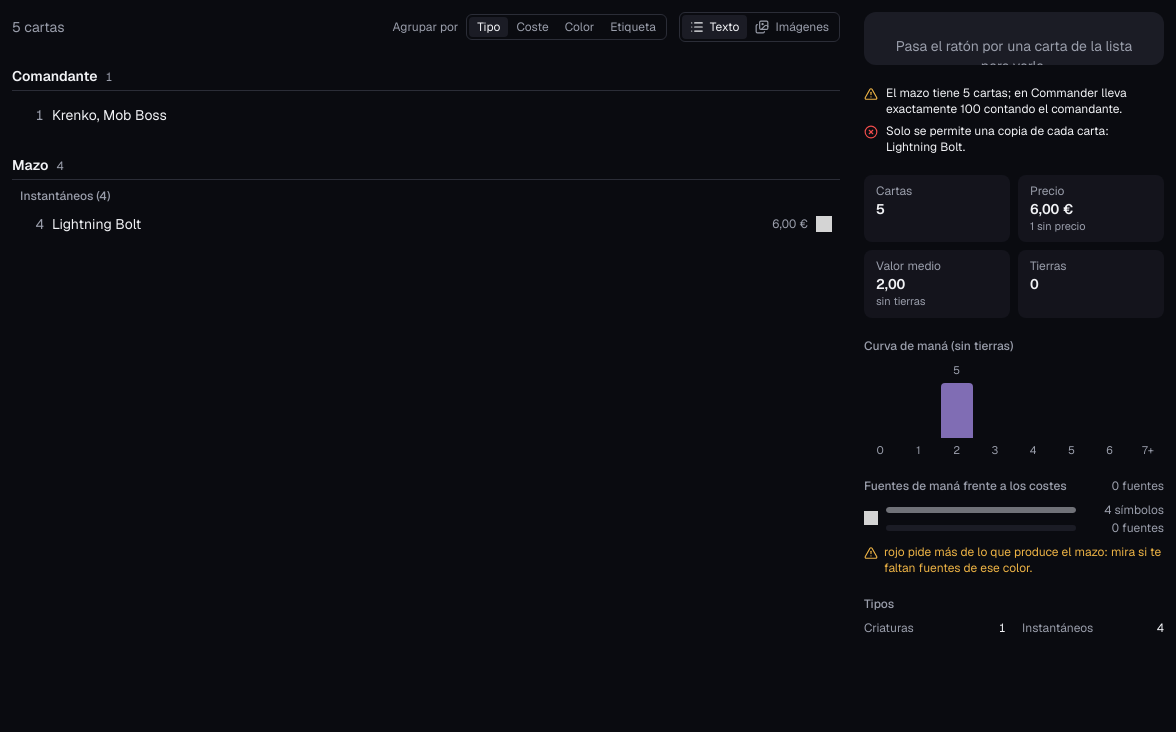
Test case: DeckView › cambia a imágenes sin perder las cartas
Expected: the 2nd text "6,00 €" is shown, [772, 216, 808, 232]
Click the radio button labelled "Imágenes": (792, 27) [747, 15, 837, 39]
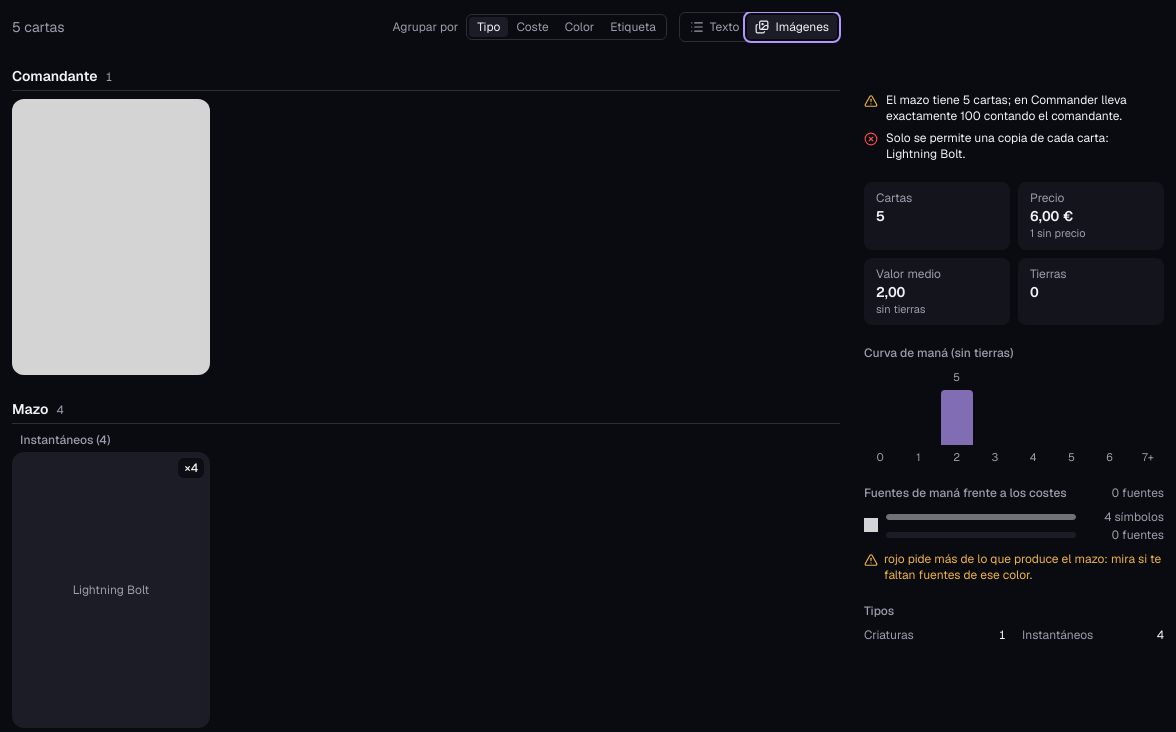
Expected: the text named "4 copias" is shown, [178, 458, 204, 478]
